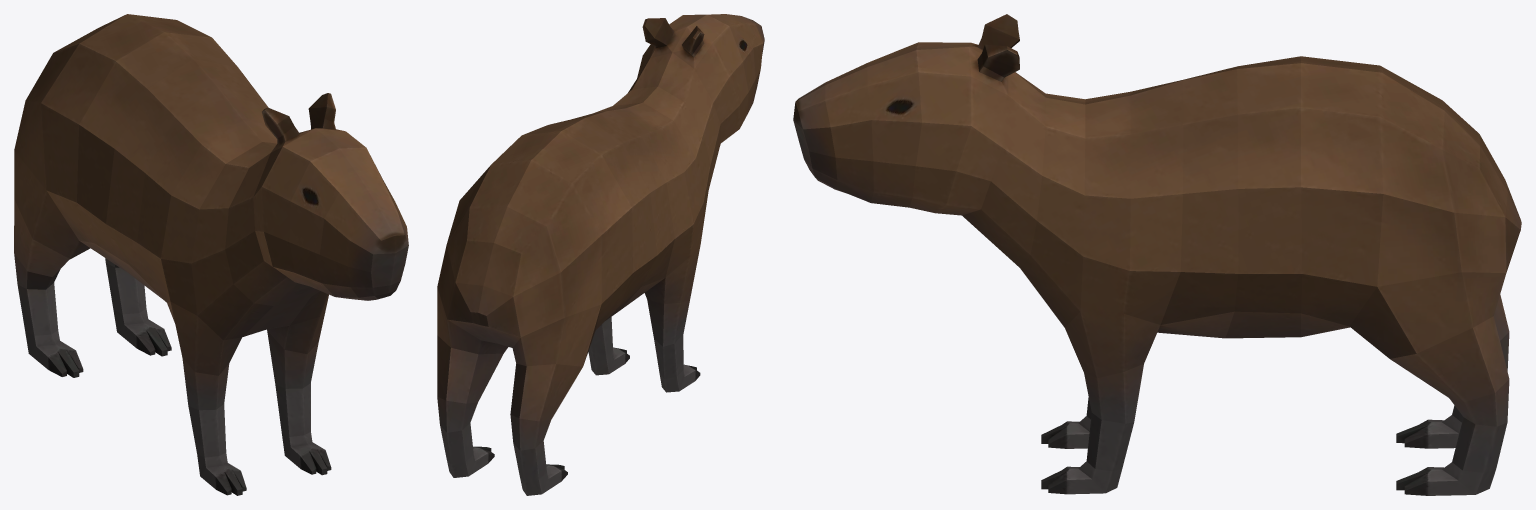
File: capybara.glb
3 renders of one model, left to right at view 1: azimuth 30°, elevation 25°; view 2: azimuth 150°, elevation 25°; view 3: azimuth 270°, elevation 25°, orthographic. The views are drawn at different scales.
Parts seen in each view (by area): view 1: Capybara_mesh; view 2: Capybara_mesh; view 3: Capybara_mesh.
Boxes of the visible parts, box(x1,y1,x2,y2) form: Capybara_mesh: box(14, 14, 408, 495); Capybara_mesh: box(437, 14, 764, 495); Capybara_mesh: box(793, 14, 1521, 495).
Size of the model in its own units: 2.16 by 4.72 by 7.16.
Materials: 1 (1 with a texture image).
